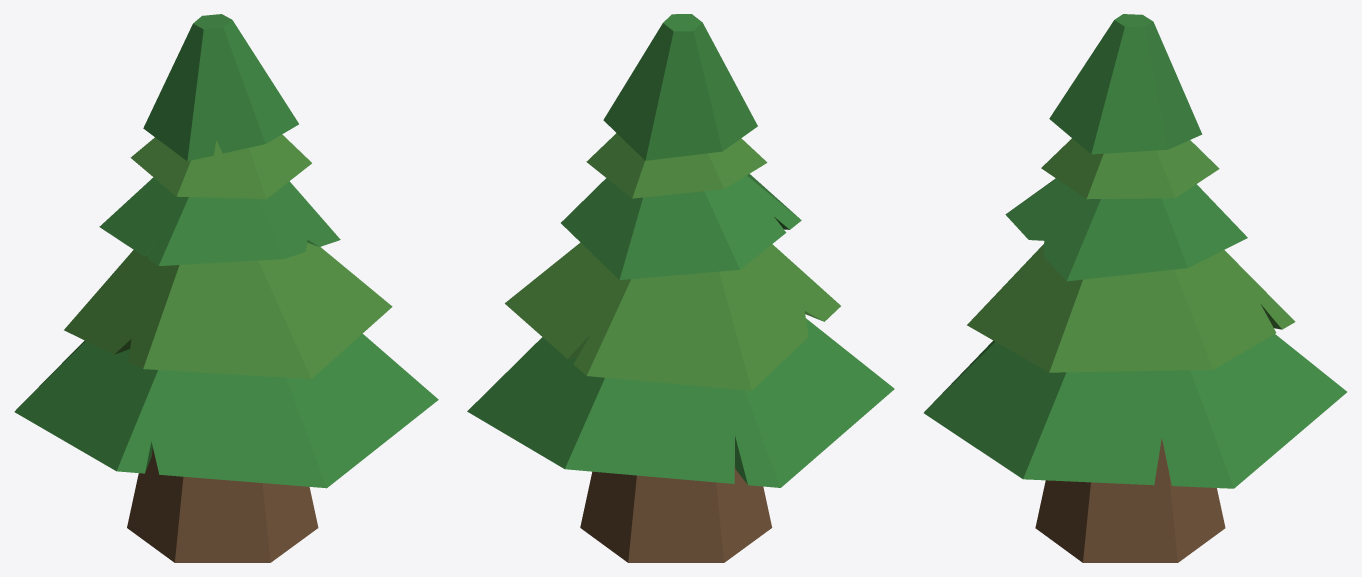
File: tree4.fbx
3 views of the same model, side by side, from view 1: azimuth 30°, elevation 25°; view 2: azimuth 150°, elevation 25°; view 3: azimuth 270°, elevation 25° (orthographic).
Visible parts, largest first — view 1: Cylinder.013, Cylinder.014, Cylinder.012, Cylinder.018, Cylinder.015, Cylinder.017; view 2: Cylinder.013, Cylinder.014, Cylinder.015, Cylinder.012, Cylinder.018, Cylinder.017; view 3: Cylinder.013, Cylinder.014, Cylinder.015, Cylinder.018, Cylinder.012, Cylinder.017.
Boxes of the visible parts, x1,y1,x2,y2 form: Cylinder.013: [14, 333, 438, 488]; Cylinder.014: [64, 242, 392, 378]; Cylinder.012: [127, 447, 318, 562]; Cylinder.018: [143, 14, 298, 161]; Cylinder.015: [99, 177, 340, 265]; Cylinder.017: [130, 134, 311, 199]; Cylinder.013: [467, 318, 894, 487]; Cylinder.014: [505, 242, 840, 390]; Cylinder.015: [561, 174, 801, 280]; Cylinder.012: [580, 465, 772, 562]; Cylinder.018: [603, 14, 757, 160]; Cylinder.017: [586, 133, 767, 198]; Cylinder.013: [924, 334, 1346, 488]; Cylinder.014: [967, 244, 1295, 372]; Cylinder.015: [1005, 178, 1247, 281]; Cylinder.018: [1049, 14, 1202, 154]; Cylinder.012: [1035, 438, 1225, 562]; Cylinder.017: [1041, 138, 1219, 199].
Bounding box in the file's own units: 232 × 347 × 265.
